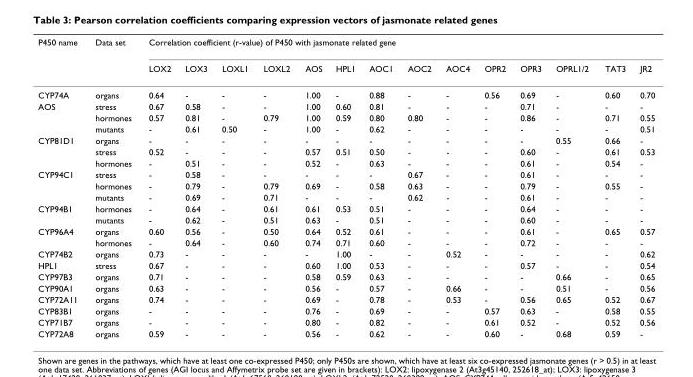table: (37, 36, 654, 338)
table column: (85, 36, 139, 338), (37, 36, 85, 338), (547, 36, 595, 338), (213, 36, 255, 338), (255, 36, 296, 338), (437, 36, 476, 338), (139, 36, 177, 338), (361, 36, 399, 338), (399, 36, 437, 338), (595, 36, 632, 338), (177, 36, 213, 338), (476, 36, 512, 338), (512, 36, 547, 338), (328, 36, 361, 338), (296, 36, 328, 338), (632, 36, 654, 338)
table column header: (37, 36, 654, 81)
table row: (37, 54, 654, 81), (37, 81, 654, 100), (37, 36, 654, 54), (37, 122, 654, 134), (37, 145, 654, 157), (37, 179, 654, 191), (37, 213, 654, 225), (37, 247, 654, 259), (37, 270, 654, 282), (37, 304, 654, 316), (37, 100, 654, 111), (37, 111, 654, 122), (37, 134, 654, 145), (37, 157, 654, 168), (37, 168, 654, 179), (37, 191, 654, 202), (37, 202, 654, 213), (37, 225, 654, 236), (37, 236, 654, 247), (37, 259, 654, 270), (37, 282, 654, 293), (37, 293, 654, 304), (37, 316, 654, 327), (37, 327, 654, 338)
table spanning cell: (139, 36, 654, 54), (85, 36, 139, 81), (37, 36, 85, 81), (37, 100, 85, 134), (37, 134, 85, 168), (37, 168, 85, 202), (37, 202, 85, 225), (37, 225, 85, 247)
